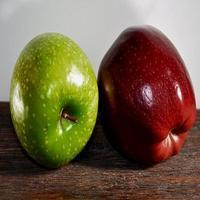apple: (100, 24, 197, 169), (9, 35, 99, 166)
